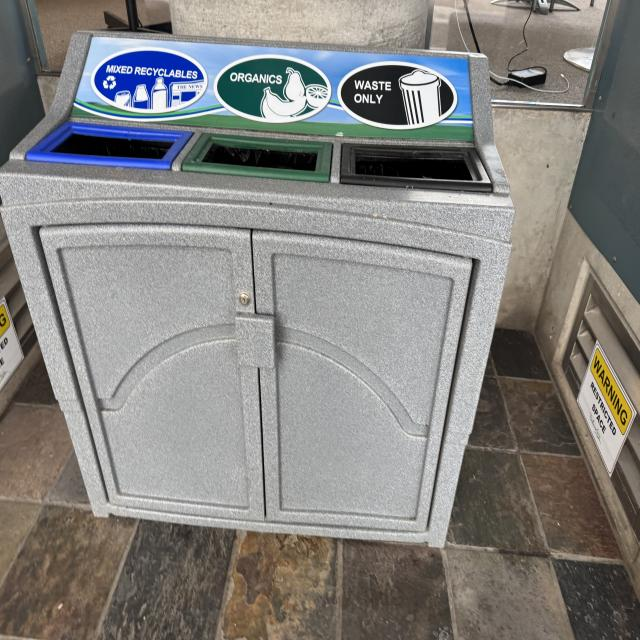Dustbin: (2, 29, 517, 550)
